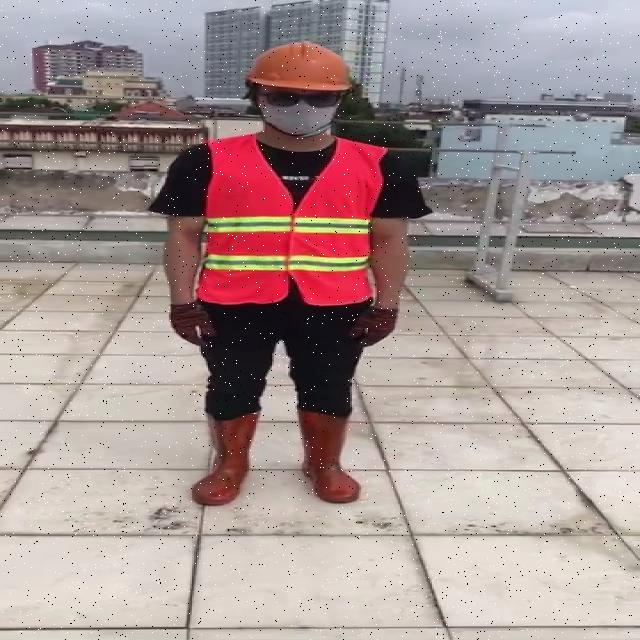Hard_hat: (236, 38, 358, 103)
Person: (140, 43, 437, 556)
Vest: (200, 133, 378, 308)
